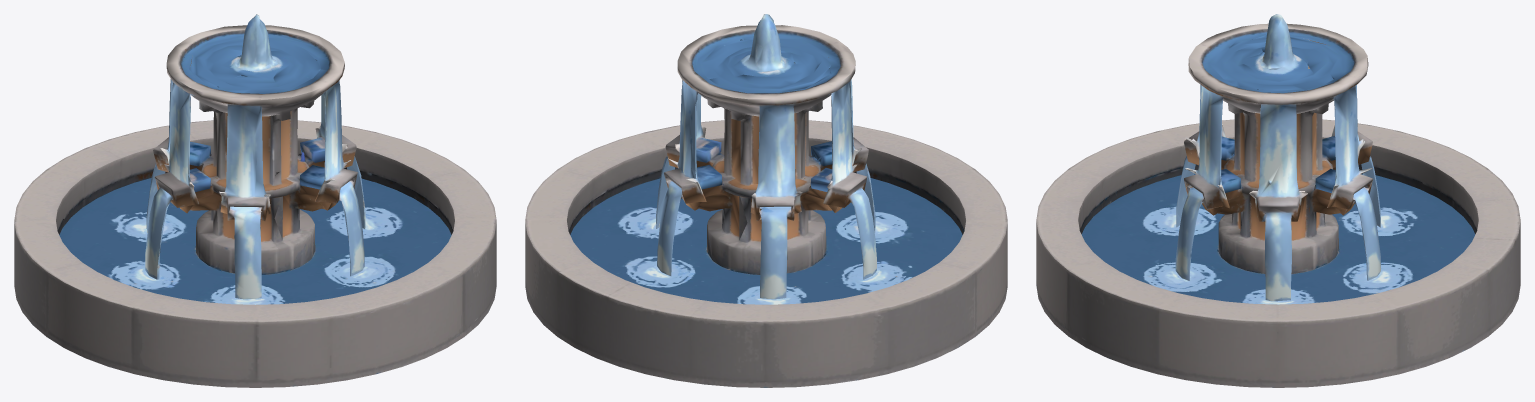
File: fountain.glb
3 renders of one model, left to right at view 1: azimuth 30°, elevation 25°; view 2: azimuth 150°, elevation 25°; view 3: azimuth 270°, elevation 25°, orthographic.
Visible parts, largest first — view 1: body, water; view 2: body, water; view 3: body, water.
Part boxes in pixels (<box>): body: <box>14,25,496,387</box>; water: <box>59,14,451,304</box>; body: <box>525,25,1007,387</box>; water: <box>570,14,962,304</box>; body: <box>1036,15,1520,387</box>; water: <box>1081,14,1475,304</box>.
Bounding box in the file's own units: 3 × 1.86 × 3.
2 materials, 2 textured.
